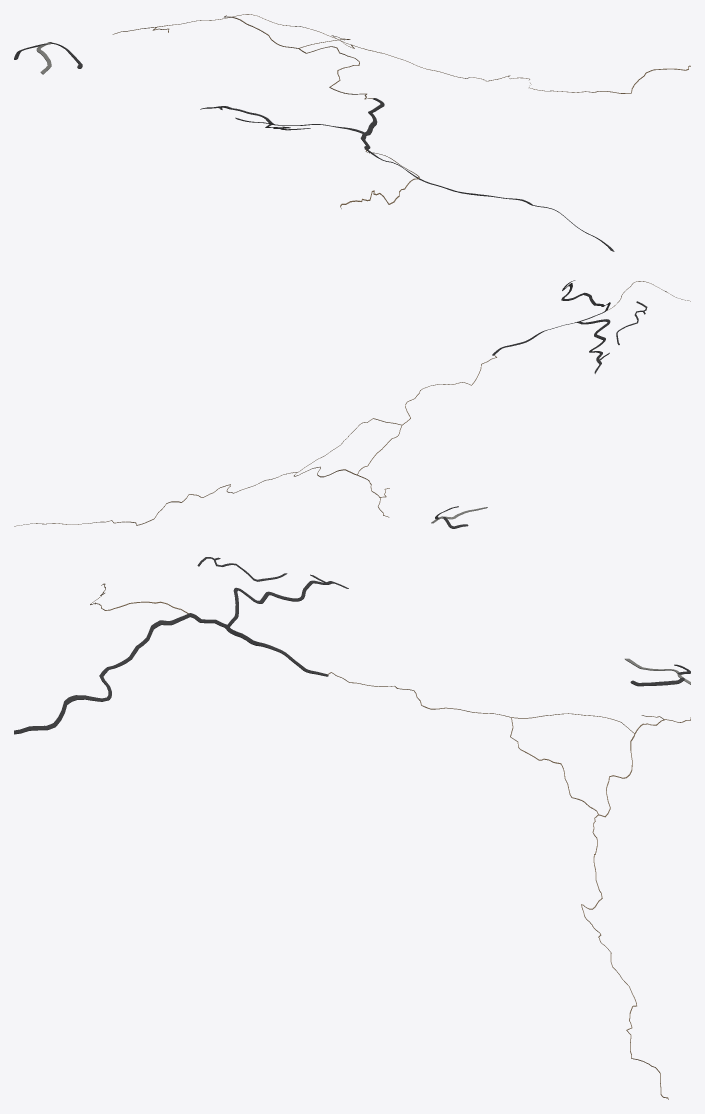
3 renders of one model, top to bottom at view 1: azimuth 30°, elevation 25°; view 2: azimuth 150°, elevation 25°; view 3: azimuth 270°, elevation 25°, orthographic. The views are drawn at different scales.
Bounding box in the file's own units: 1174 × 489 × 1166.
